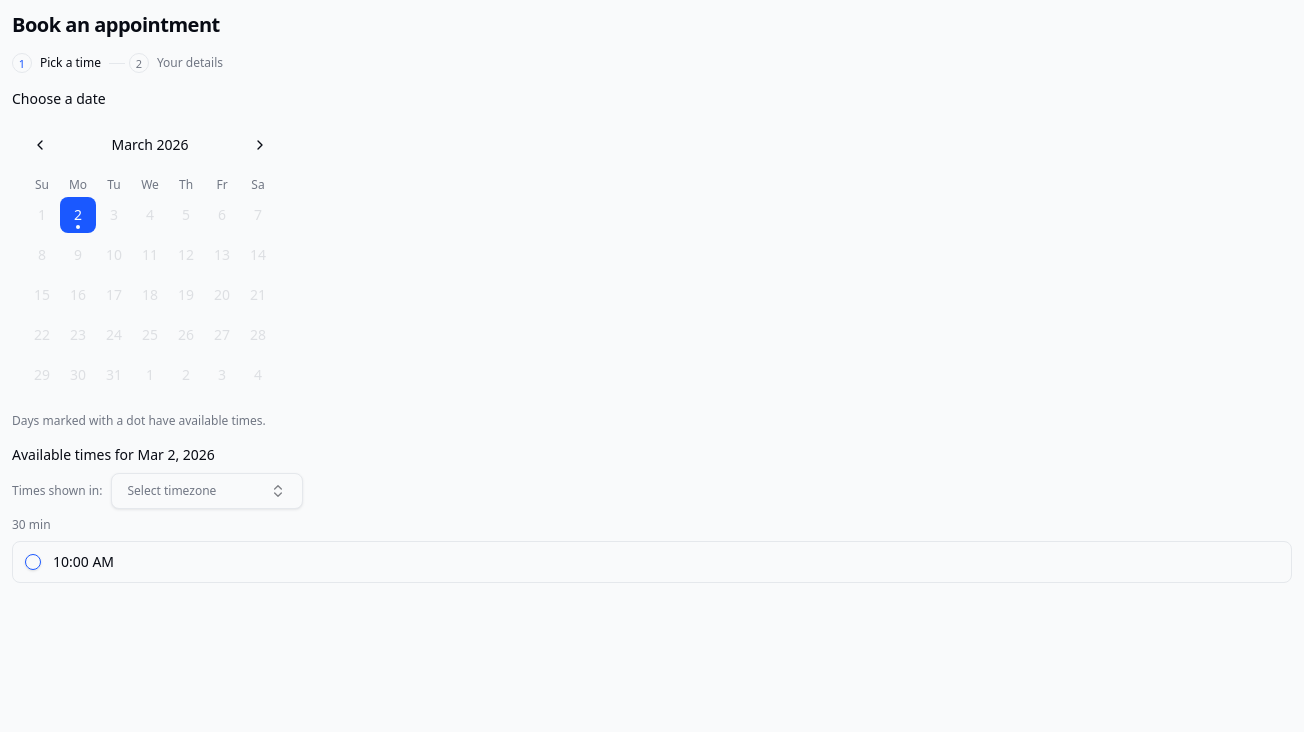
PublicBookingFlow › SLOT_UNAVAILABLE on submit returns to slot selection with the slot list refetched
Click the radio button.
click(33, 562)  # box x1=25 y1=554 x2=41 y2=570
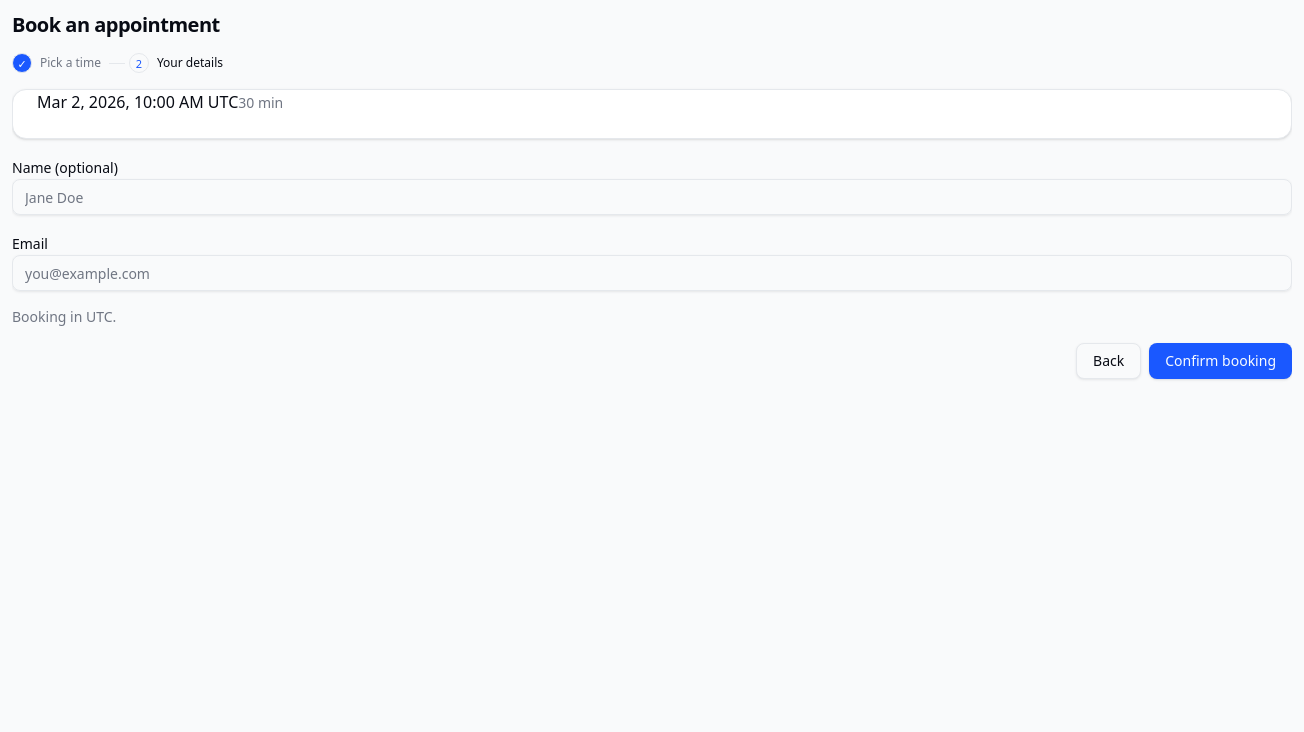
Type "attendee@example.com" into the field with test id "attendee-email-input".
click(652, 273); type("attendee@example.com")  # box x1=12 y1=255 x2=1292 y2=291
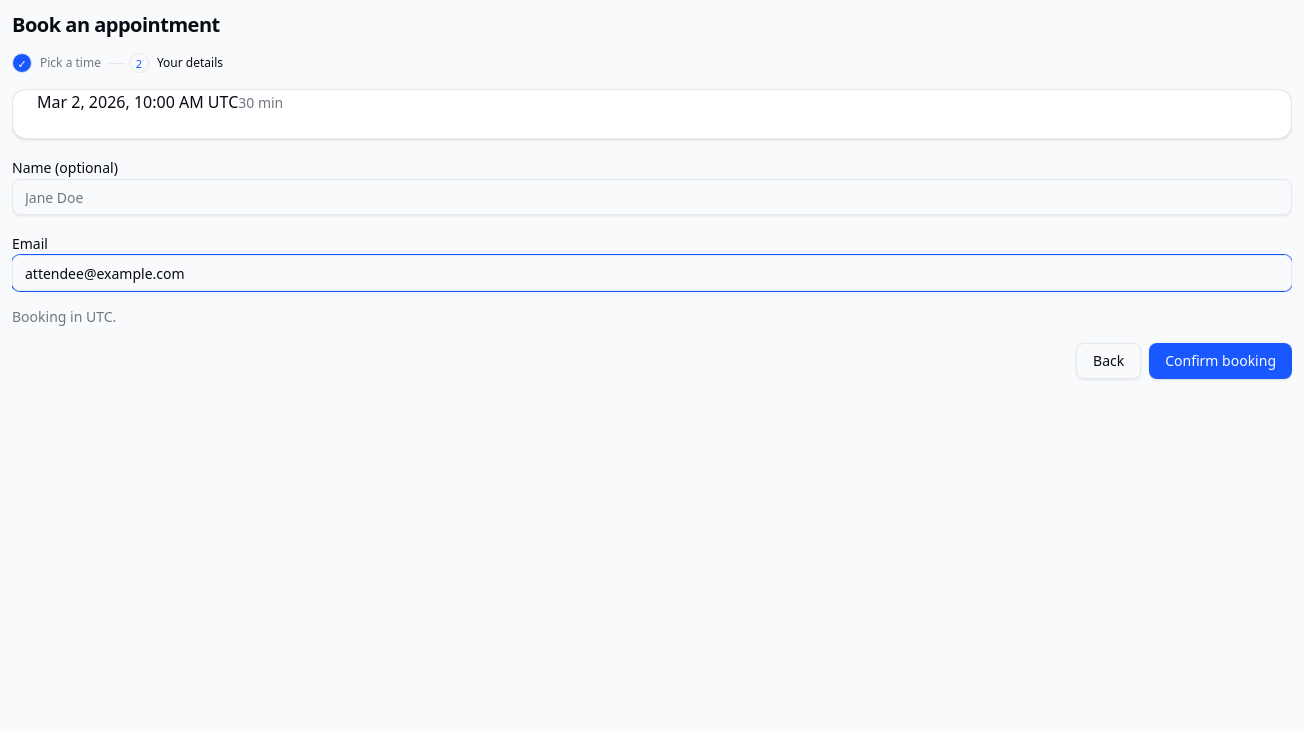
Click the button with test id "attendee-form-submit".
click(1221, 361)  # box x1=1149 y1=343 x2=1292 y2=379
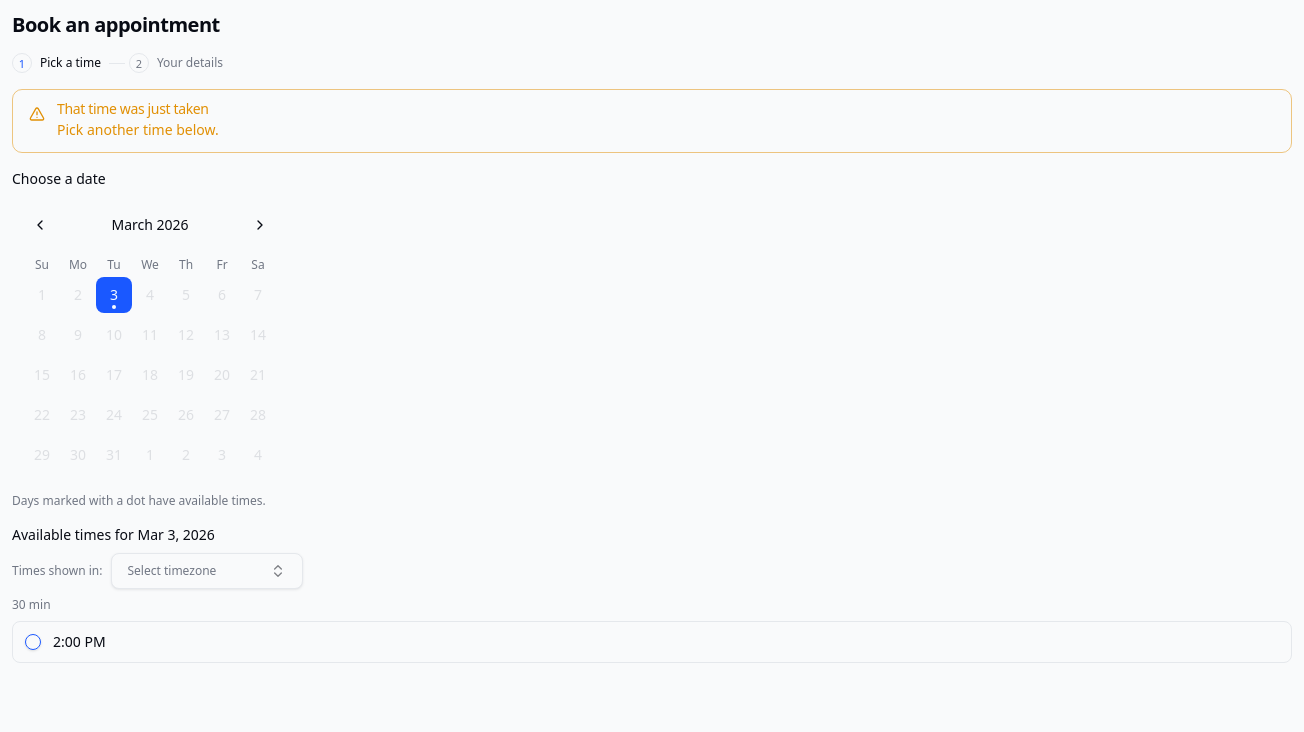
Now the message "That time was just taken Pick another time below." is shown, box x1=12 y1=89 x2=1292 y2=153
Now the radio button is shown, box x1=25 y1=634 x2=41 y2=650
Now the text "Available times for Mar 3, 2026" is shown, box x1=12 y1=525 x2=215 y2=544
